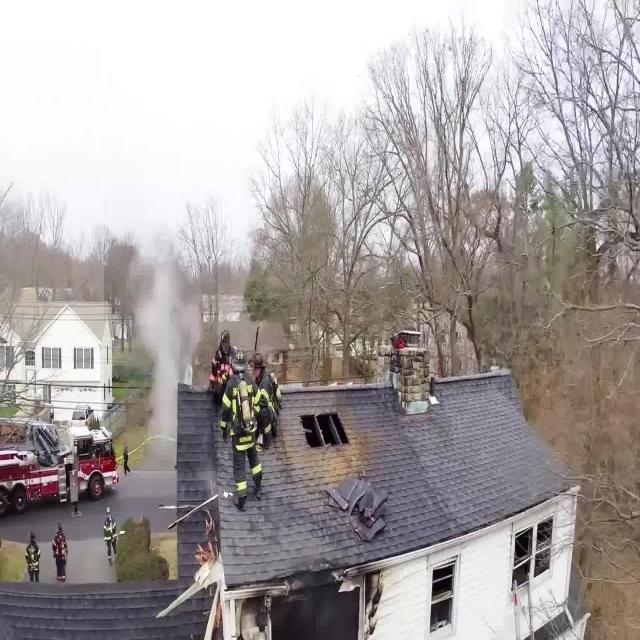Smoke: (104, 158, 218, 471)
